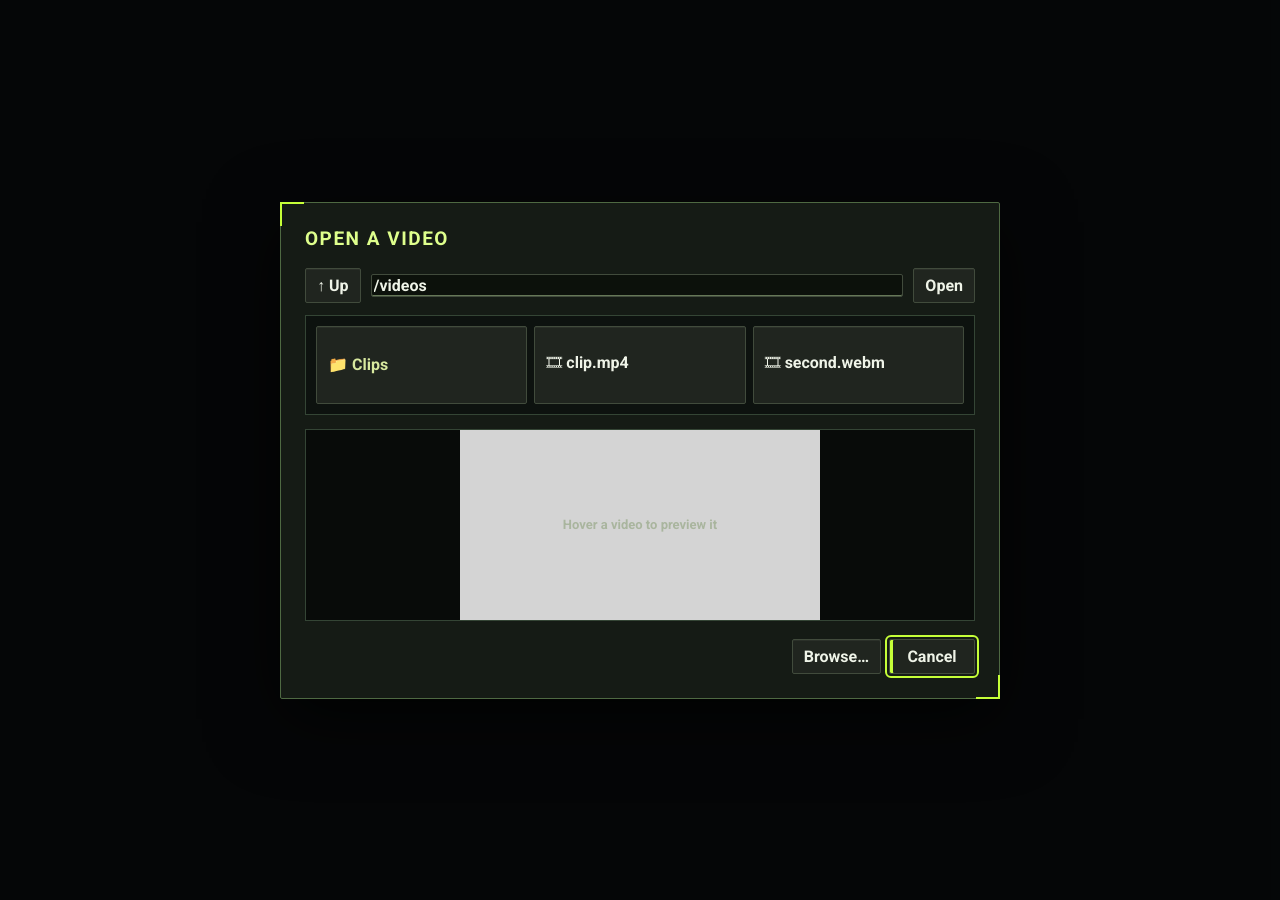
Test case: VideoPicker › clears a failed A preview when a successful B preview is hovered
Hover over the button "🎞 clip.mp4": (640, 364) x1=534 y1=326 x2=746 y2=404
Wait 150 ms
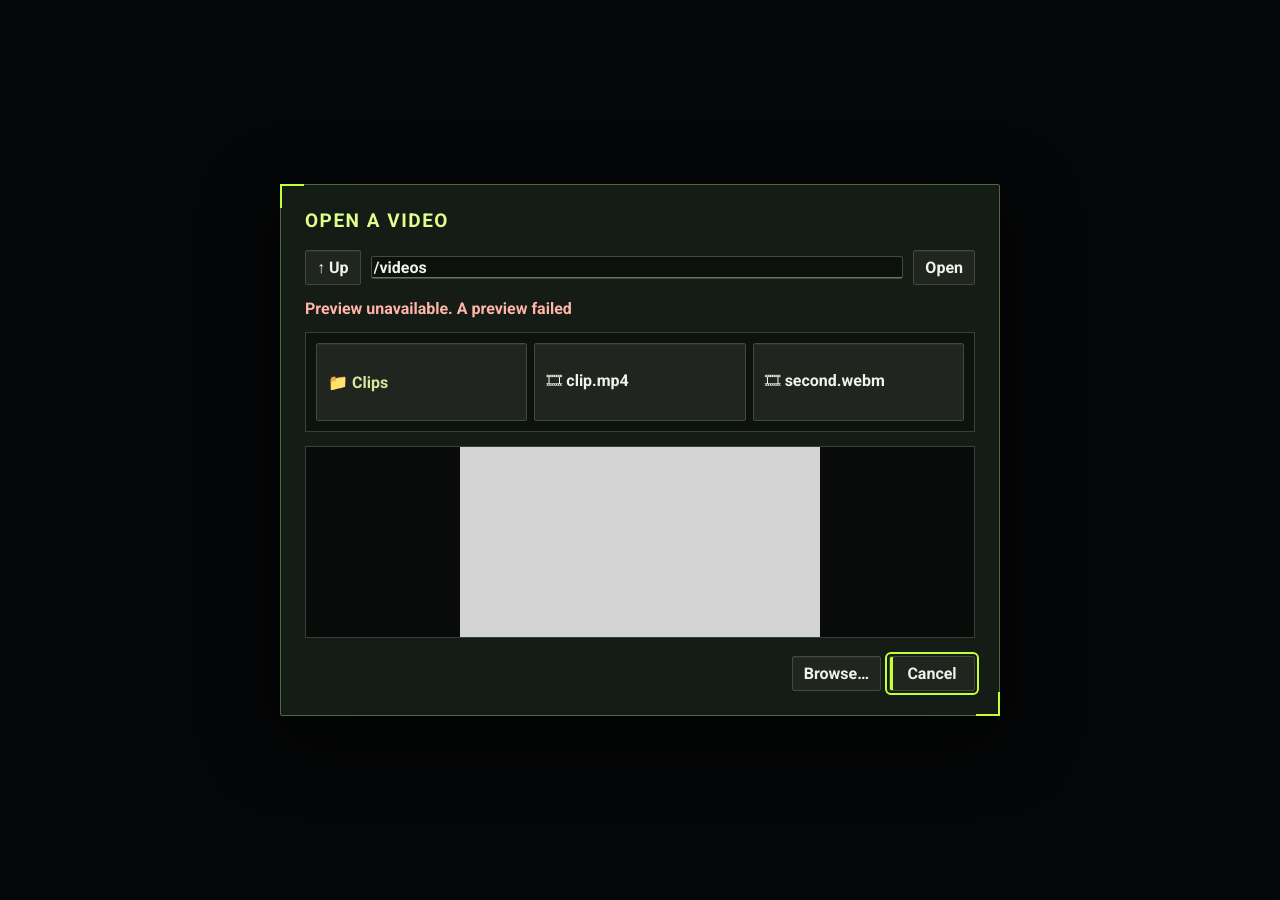
Check: the message "Preview unavailable. A preview failed" is shown, box x1=305 y1=299 x2=572 y2=318
Hover over the button "🎞 second.webm": (858, 382) x1=753 y1=343 x2=964 y2=421
Wait 150 ms
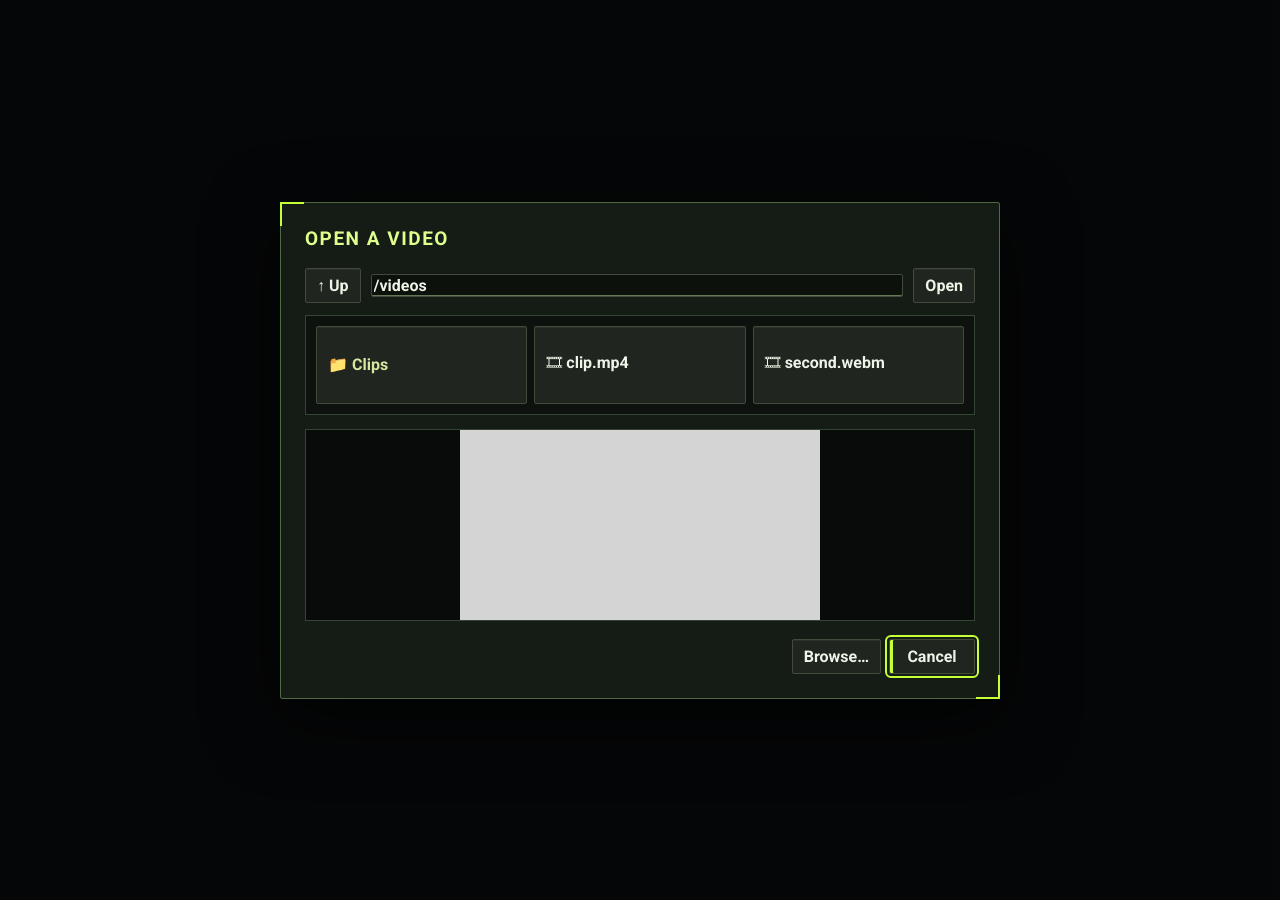
Check: the message "Preview unavailable. A preview failed" is gone
